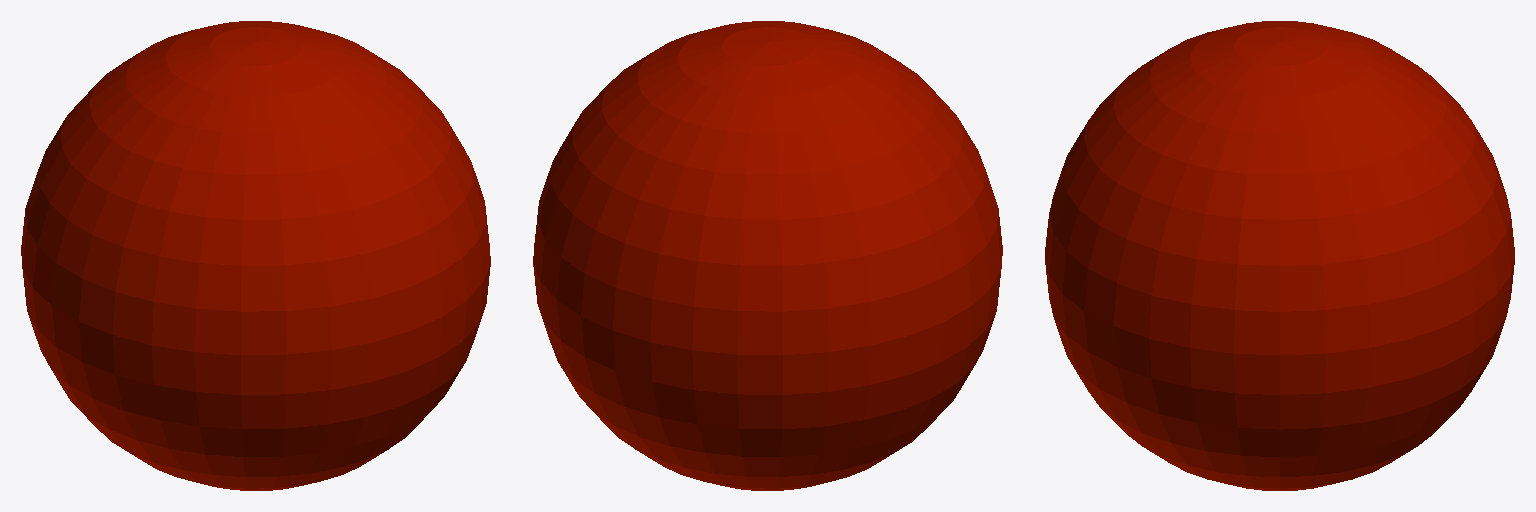
File: shipcore.obj
3 renders of one model, left to right at view 1: azimuth 30°, elevation 25°; view 2: azimuth 150°, elevation 25°; view 3: azimuth 270°, elevation 25°, orthographic.
Parts seen in each view (by area): view 1: Sphere; view 2: Sphere; view 3: Sphere.
Boxes of the visible parts, box(x1,y1,x2,y2) form: Sphere: box(21, 21, 490, 490); Sphere: box(533, 21, 1002, 490); Sphere: box(1045, 21, 1514, 490).
Size of the model in its own units: 15.38 by 15.38 by 15.38.